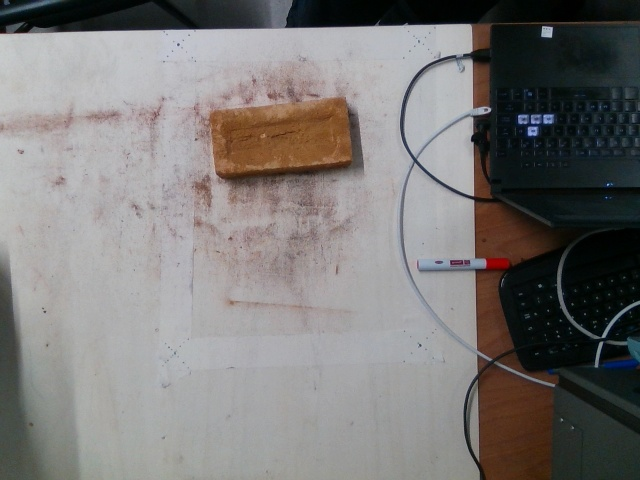brick: (210, 98, 350, 176)
